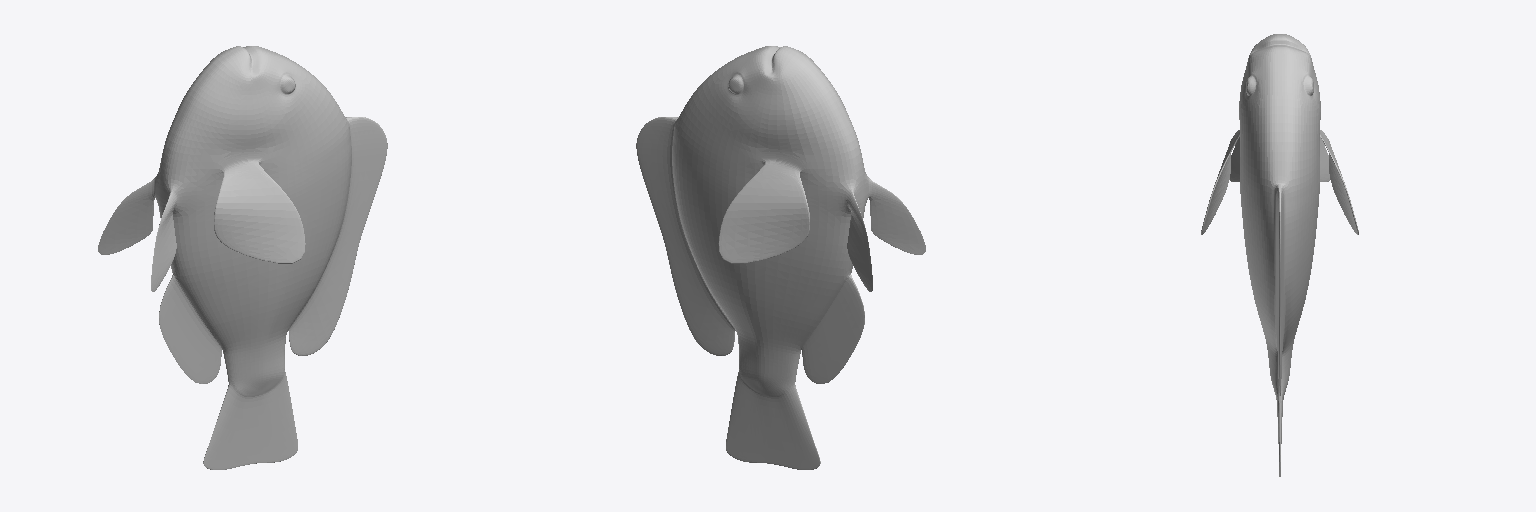
File: fisi4.obj
The picture shows the model from 3 angles: view 1: azimuth 30°, elevation 25°; view 2: azimuth 150°, elevation 25°; view 3: azimuth 270°, elevation 25°; orthographic projection.
Visible parts, largest first — view 1: 12265_Fish_v1_L2; view 2: 12265_Fish_v1_L2; view 3: 12265_Fish_v1_L2.
Part boxes in pixels (x1,y1,x2,y2): 12265_Fish_v1_L2: (98, 46, 387, 469); 12265_Fish_v1_L2: (636, 46, 925, 469); 12265_Fish_v1_L2: (1201, 34, 1358, 476).
Size of the model in its own units: 2.24 by 3.44 by 1.16.